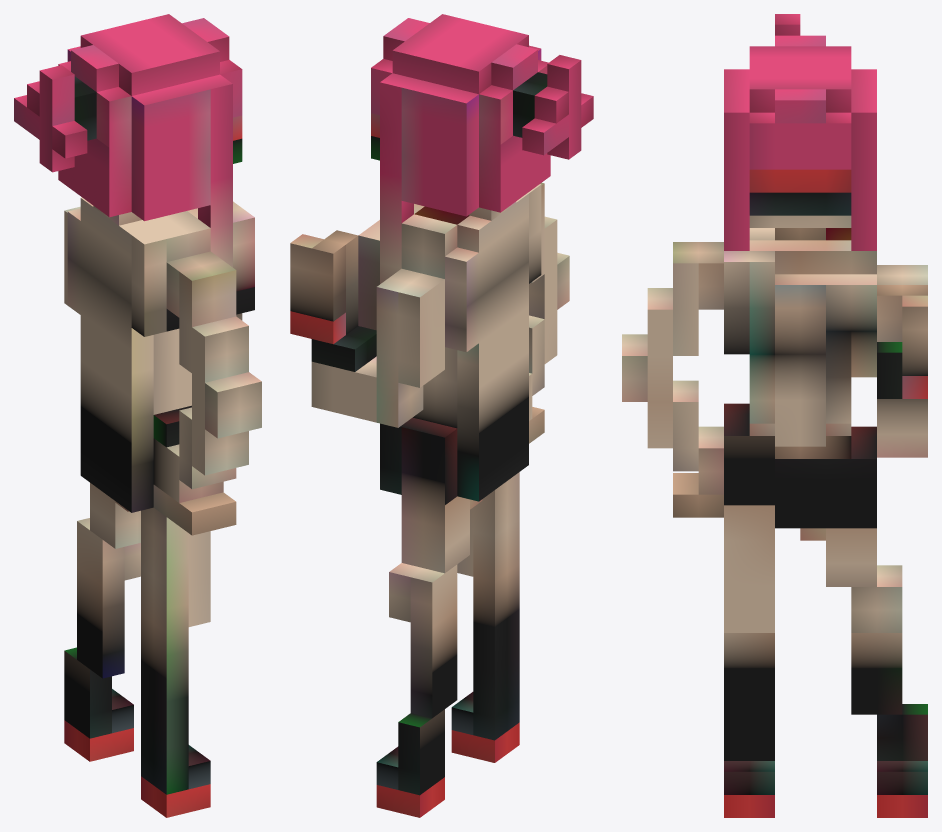
File: Character_N_00.fbx
The picture shows the model from 3 angles, left to right: view 1: azimuth 30°, elevation 25°; view 2: azimuth 150°, elevation 25°; view 3: azimuth 270°, elevation 25°; orthographic projection. The views are drawn at different scales.
Visible parts, largest first — view 1: Character_N_00; view 2: Character_N_00; view 3: Character_N_00.
Boxes of the visible parts, left/top/right/bottom form: Character_N_00: left=14, top=14, right=261, bottom=817; Character_N_00: left=290, top=14, right=593, bottom=817; Character_N_00: left=622, top=14, right=927, bottom=817.
Size of the model in its own units: 50 by 160 by 60.
